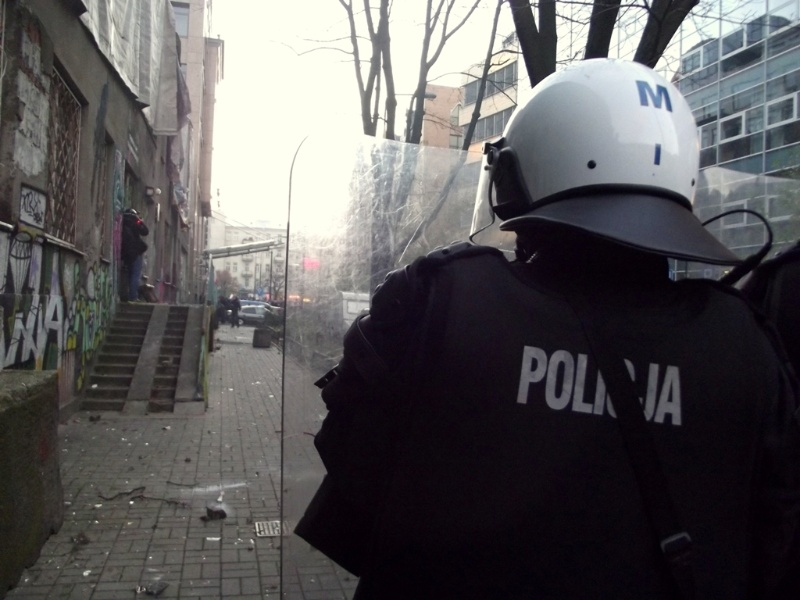Baret: (500, 57, 701, 204)
